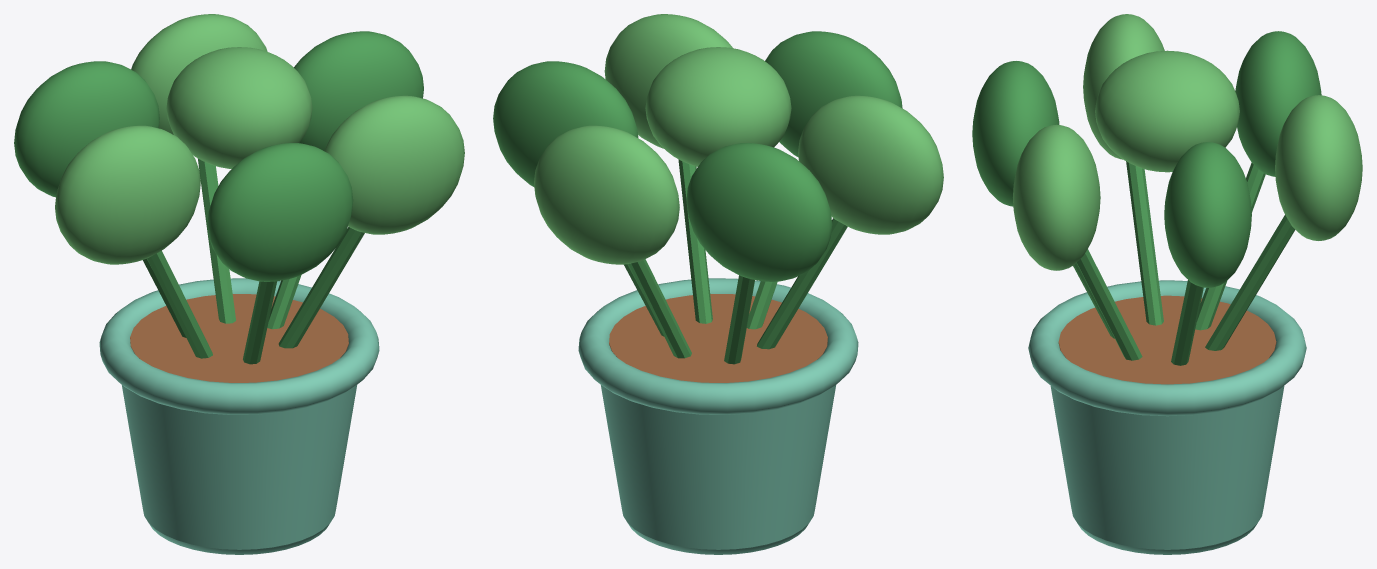
The model's file is prop-plant.glb.
3 views of the same model, side by side, from view 1: azimuth 30°, elevation 25°; view 2: azimuth 150°, elevation 25°; view 3: azimuth 270°, elevation 25° (orthographic).
Visible parts, largest first — view 1: Pot, Leaf3, Leaf4, Leaf5, PotRim, LeafTop, Soil, Leaf2, Leaf0, Leaf1, Stem5, Stem3 (+3 smaller); view 2: Pot, Leaf1, Leaf2, Leaf3, PotRim, LeafTop, Soil, Leaf0, Leaf4, Leaf5, Stem3, Stem5 (+3 smaller); view 3: Pot, PotRim, LeafTop, Soil, Leaf0, Leaf1, Leaf5, Leaf4, Leaf2, Leaf3, Stem3, Stem1 (+3 smaller).
Part boxes in pixels (x1,y1,x2,y2): Pot: (122, 385, 356, 554); Leaf3: (55, 125, 200, 264); Leaf4: (207, 143, 353, 281); Leaf5: (324, 95, 464, 234); PotRim: (99, 278, 379, 414); LeafTop: (166, 47, 312, 168); Soil: (130, 294, 348, 382); Leaf2: (14, 61, 159, 197); Leaf0: (294, 31, 423, 150); Leaf1: (131, 14, 267, 134); Stem5: (278, 227, 364, 348); Stem3: (147, 250, 212, 358); Pot: (601, 385, 835, 554); Leaf1: (534, 125, 679, 264); Leaf2: (686, 143, 832, 281); Leaf3: (798, 95, 943, 234); PotRim: (578, 278, 858, 414); LeafTop: (645, 47, 791, 166); Soil: (609, 294, 827, 382); Leaf0: (493, 61, 638, 186); Leaf4: (765, 31, 902, 156); Leaf5: (604, 14, 732, 148); Stem3: (757, 218, 847, 349); Stem5: (678, 159, 712, 323); Pot: (1050, 386, 1284, 554); PotRim: (1028, 280, 1306, 416); LeafTop: (1095, 50, 1239, 172); Soil: (1058, 295, 1276, 384); Leaf0: (1164, 142, 1251, 287); Leaf1: (1275, 95, 1362, 240); Leaf5: (1013, 124, 1100, 270); Leaf4: (972, 61, 1059, 206); Leaf2: (1235, 31, 1321, 176); Leaf3: (1083, 14, 1164, 159); Stem3: (1126, 161, 1163, 325); Stem1: (1205, 214, 1295, 350).
Bounding box in the file's own units: 0.6373 × 0.7 × 0.5383.
